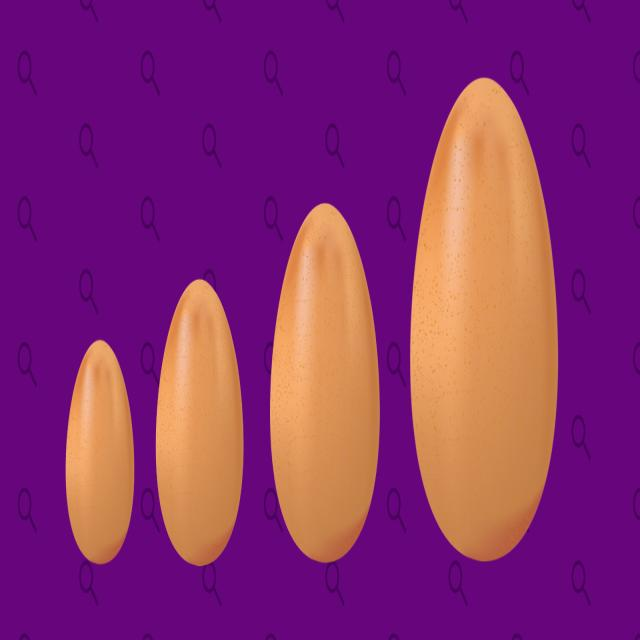huevos: (403, 70, 568, 592)
